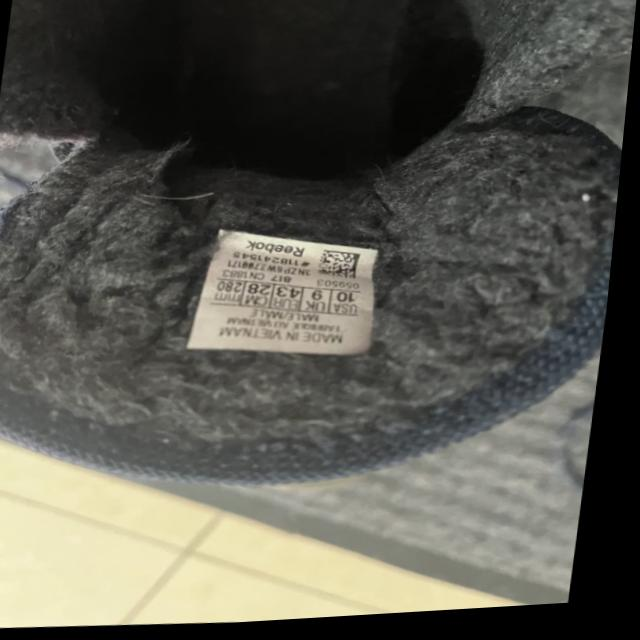datamatrix: (321, 250, 368, 287)
